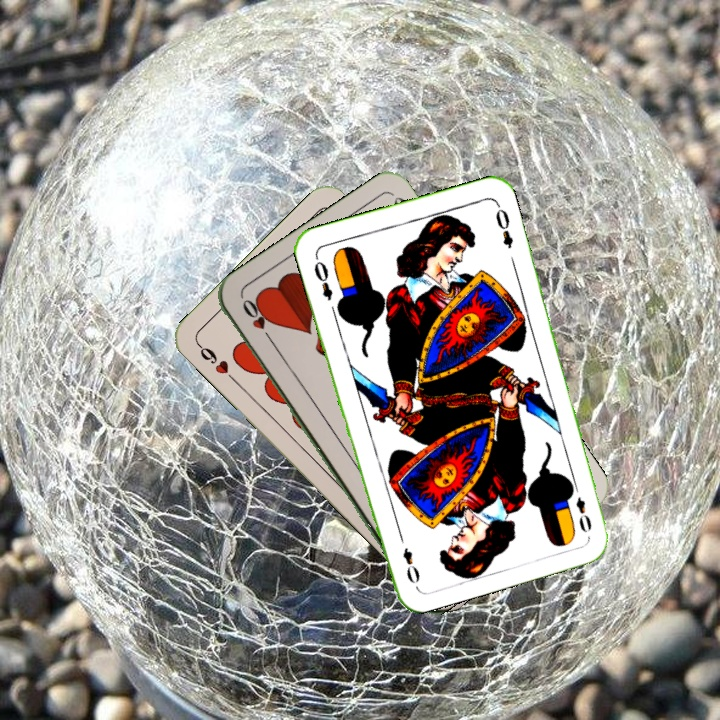EO: (566, 479, 595, 535), (310, 252, 335, 303)
H9: (193, 339, 239, 386)
HO: (238, 295, 277, 347)
